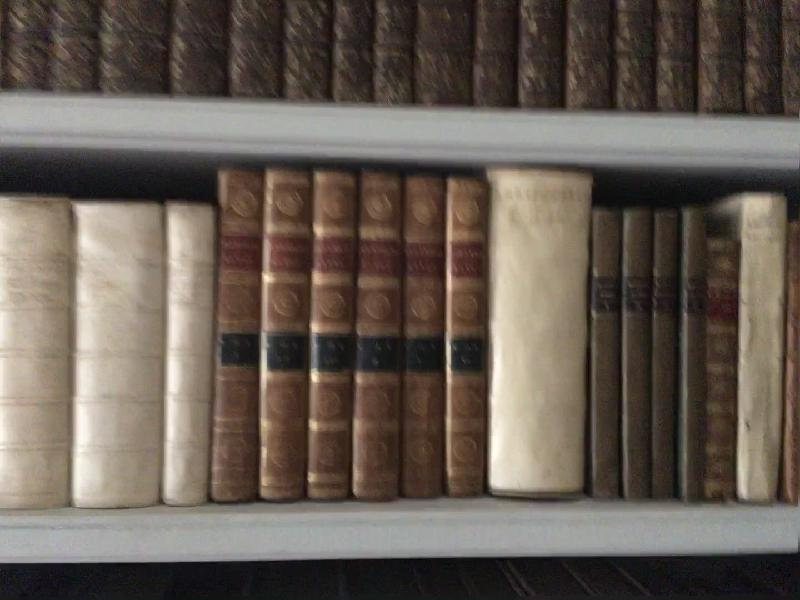Kk4-14: (487, 161, 586, 500)
Kk4-15_16: (585, 202, 653, 505)
Kk4-17_18: (655, 203, 706, 505)
Kk4-19: (706, 225, 742, 506)
Kk4-20: (738, 189, 785, 506)
Kk4-3_7: (2, 187, 206, 518)
Kk4-8_13: (215, 159, 491, 504)
